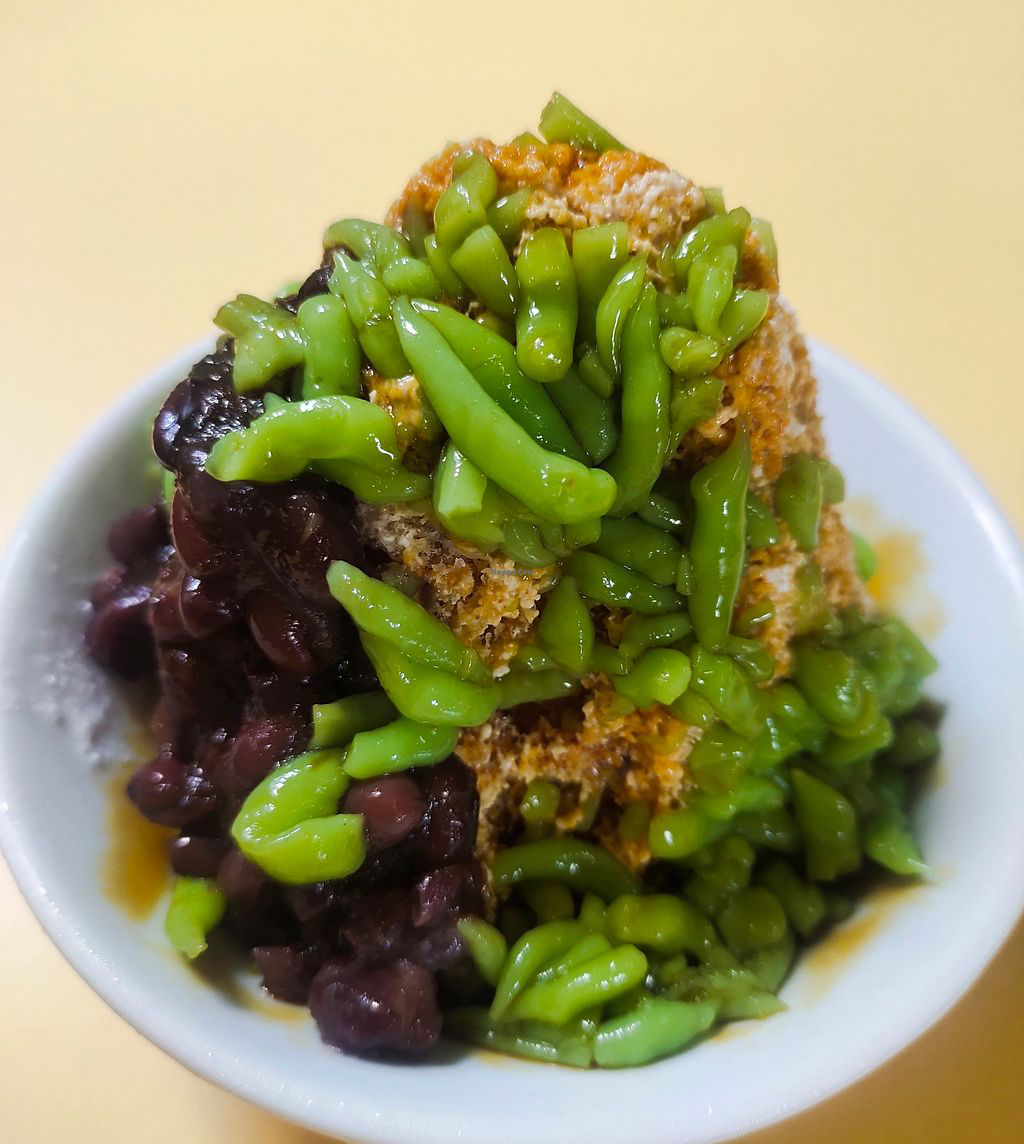Chendol: (104, 96, 906, 1072)
